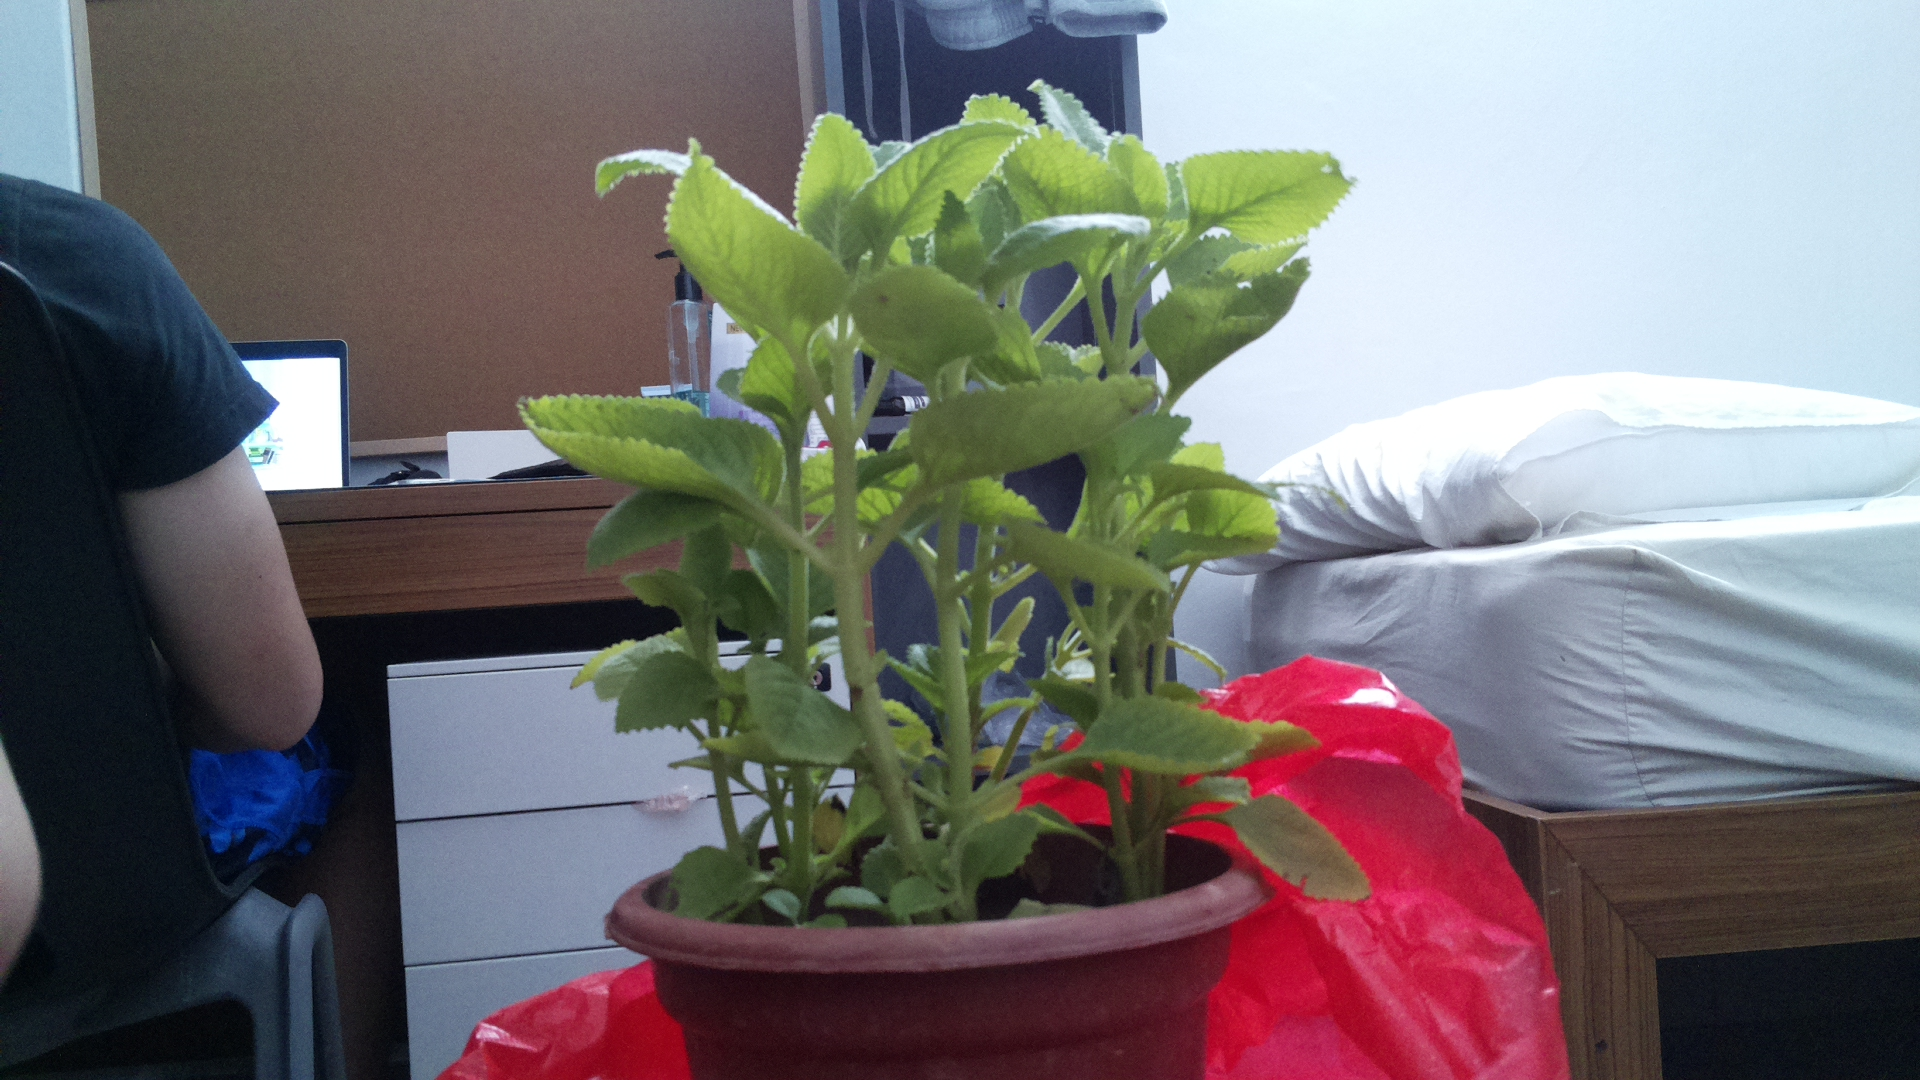leaf: (501, 386, 796, 521), (673, 138, 840, 357), (901, 378, 1164, 497), (855, 117, 1036, 266), (1147, 253, 1331, 392), (1175, 138, 1360, 251), (1218, 790, 1385, 914), (855, 258, 1001, 378), (1071, 698, 1307, 769), (1000, 506, 1180, 597), (742, 650, 866, 777), (1004, 121, 1139, 222), (584, 487, 720, 578), (607, 651, 733, 746), (680, 841, 773, 923), (956, 807, 1048, 885), (628, 566, 715, 621)
